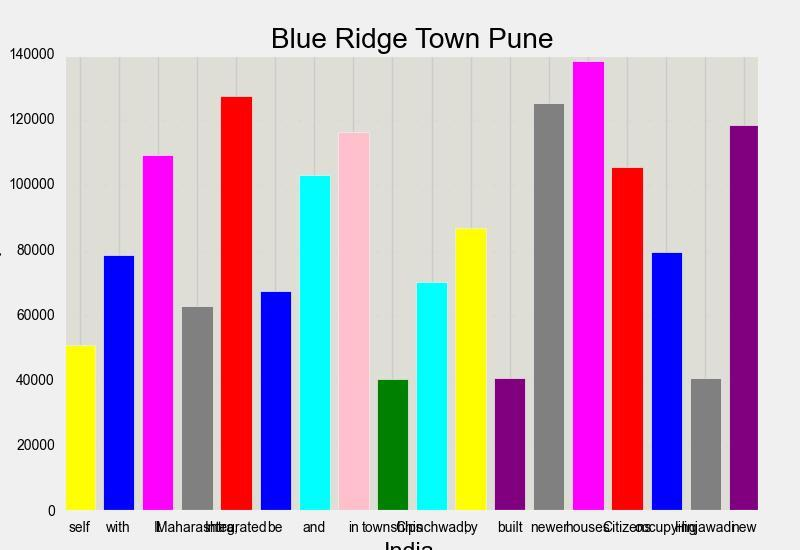axis: (0, 49, 55, 518)
rectangle: (572, 61, 604, 511), (220, 95, 251, 511), (534, 104, 564, 511), (729, 126, 760, 511), (338, 132, 369, 512), (142, 156, 174, 511), (611, 166, 642, 511), (299, 175, 330, 511), (455, 228, 486, 511), (650, 252, 682, 511), (103, 255, 134, 512), (416, 282, 447, 511), (260, 290, 290, 512), (182, 306, 212, 512), (64, 346, 95, 511), (494, 378, 526, 512), (690, 378, 721, 512), (377, 380, 408, 512)
